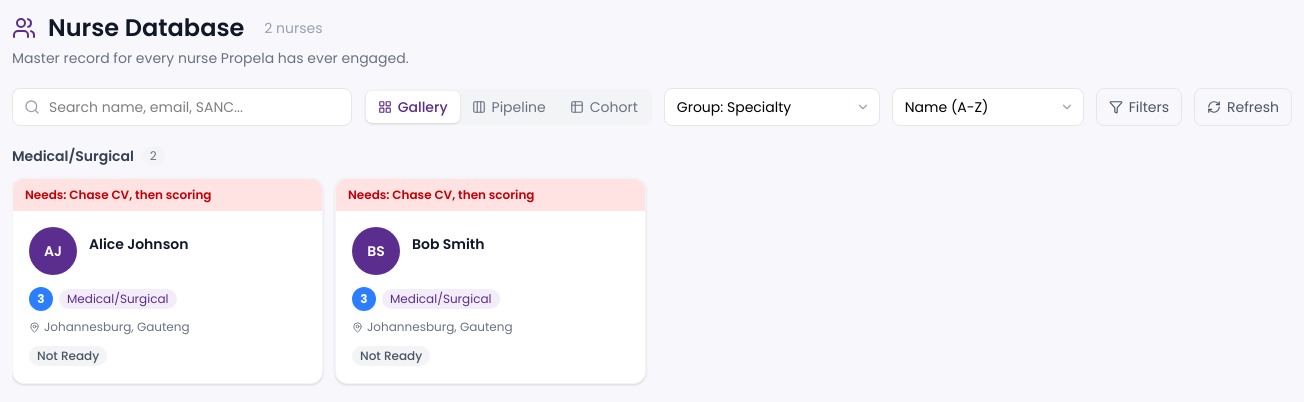
Test: Filter and search integration tests › Nurse search by name › shows all nurses when search is cleared
// Search for Alice
Type "Alice" into the field with placeholder "Search name, email, SANC..." at (182, 107), box [12,88,352,126]
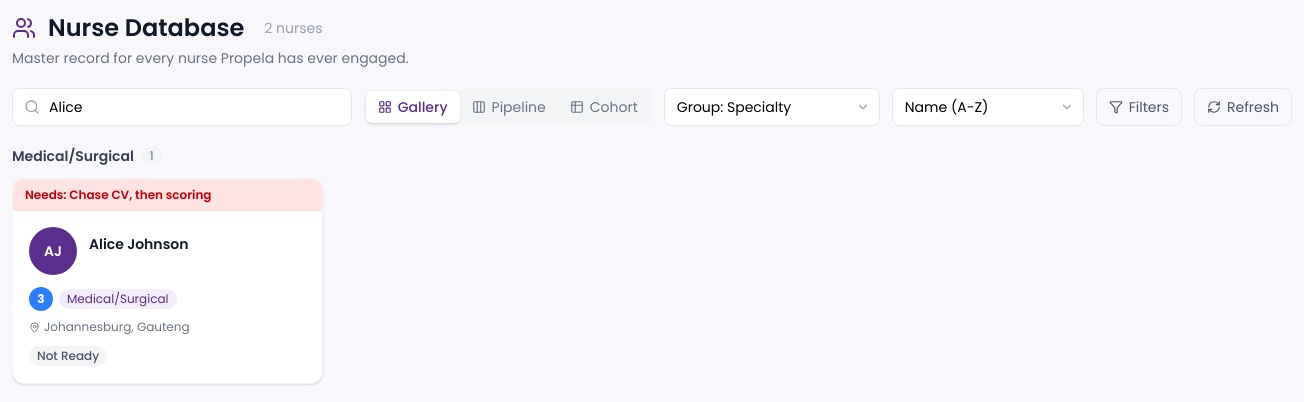
expect the text "Bob Smith" is gone: met
// Clear search
Clear the field with placeholder "Search name, email, SANC..." at (182, 107), box [12,88,352,126]
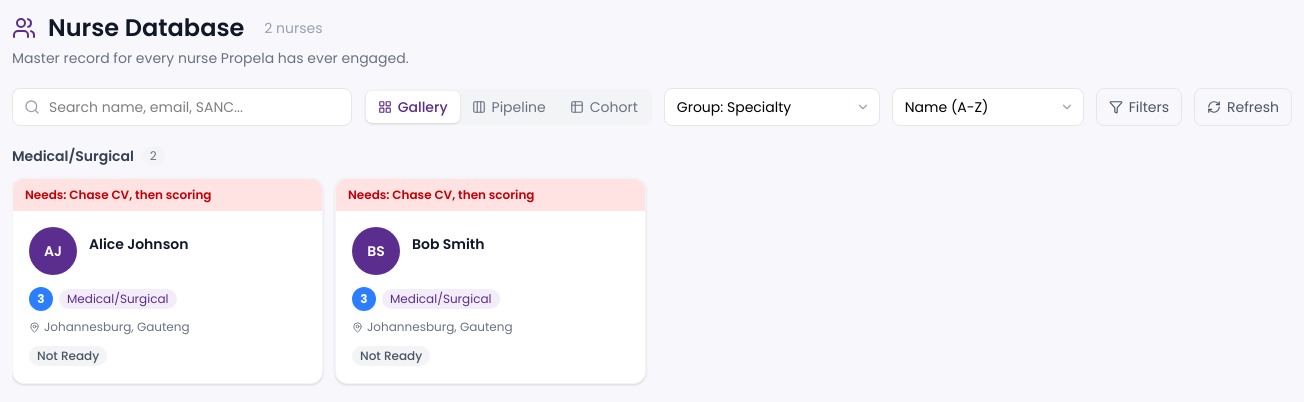
expect the text "Alice Johnson" is shown: met, box [89,234,188,254]
expect the text "Bob Smith" is shown: met, box [412,234,484,254]
